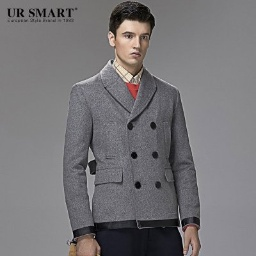face: (109, 2, 154, 67)
